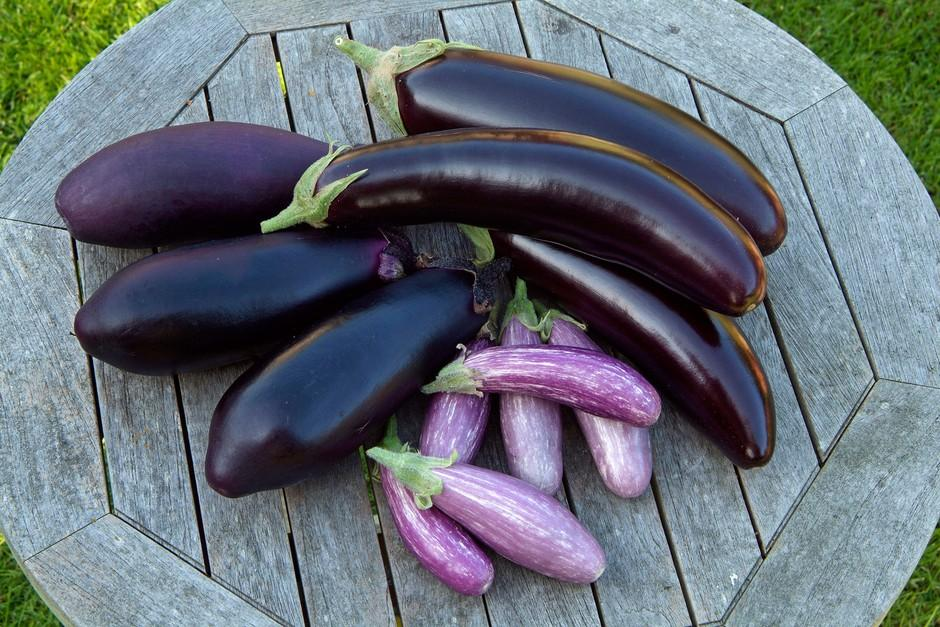1: (367, 427, 605, 583), (422, 345, 660, 426), (573, 409, 651, 497), (501, 393, 562, 494), (549, 319, 599, 351), (504, 320, 540, 344)
eggplant: (341, 40, 786, 254), (263, 128, 765, 314), (495, 232, 775, 468), (205, 269, 487, 497), (74, 230, 385, 375)
